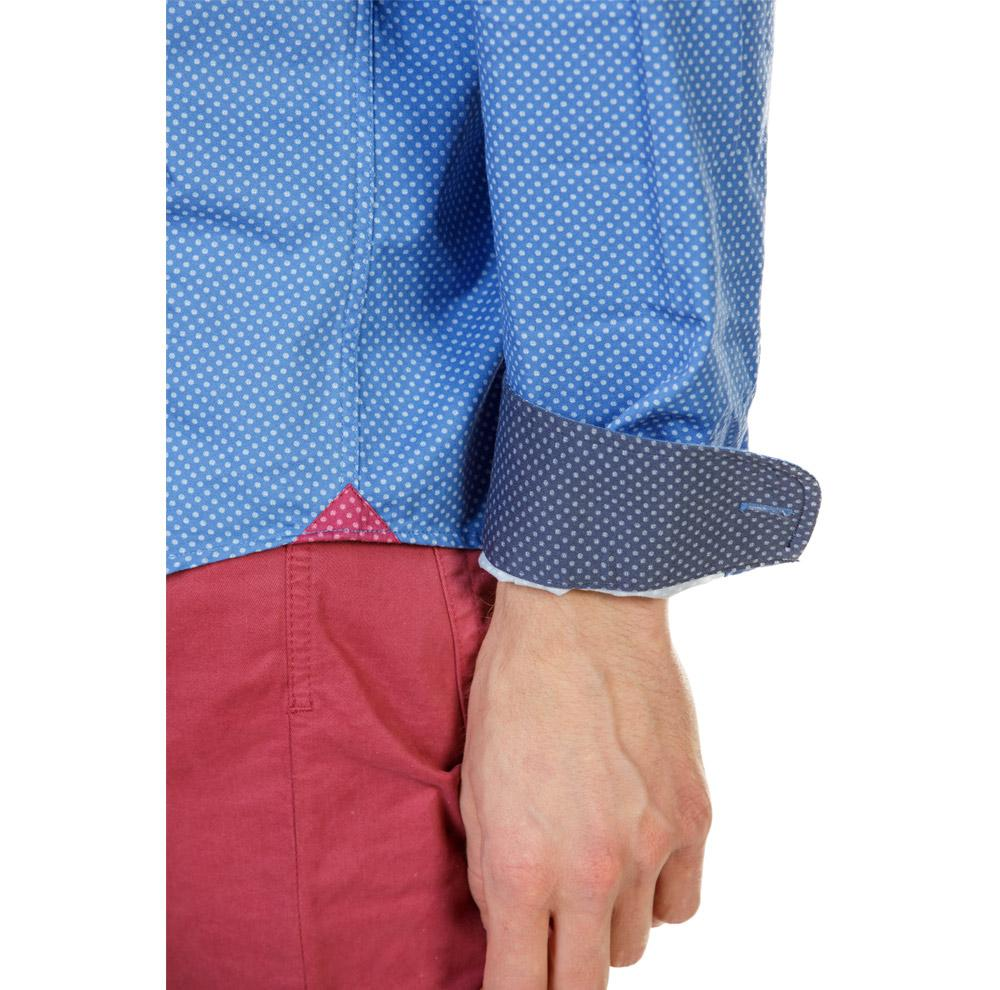teeshirt: (169, 1, 823, 587)
